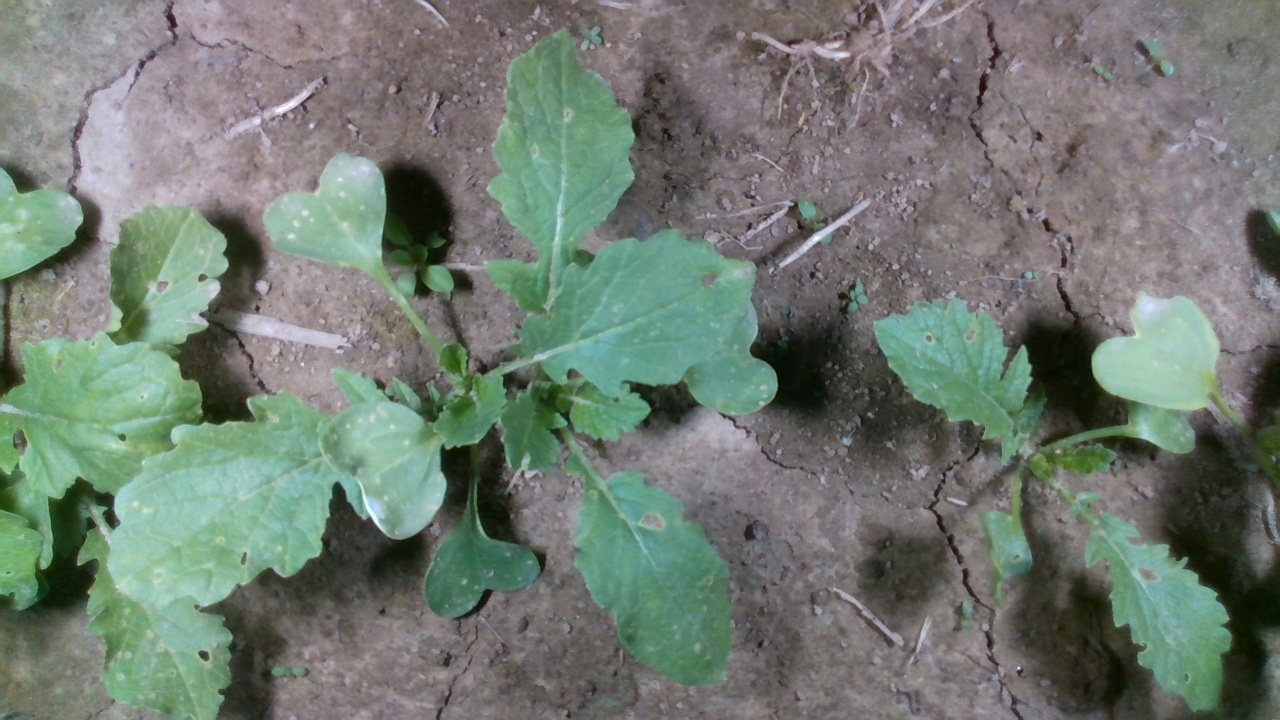weed: (1092, 65, 1113, 81)
